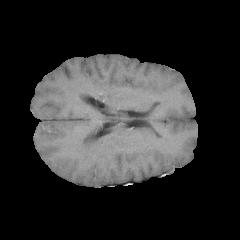glioma: (73, 125, 119, 166)
